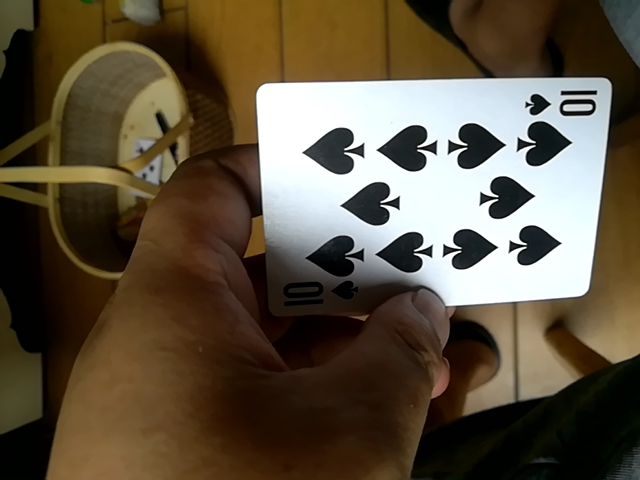ht 10: (260, 72, 609, 316)
